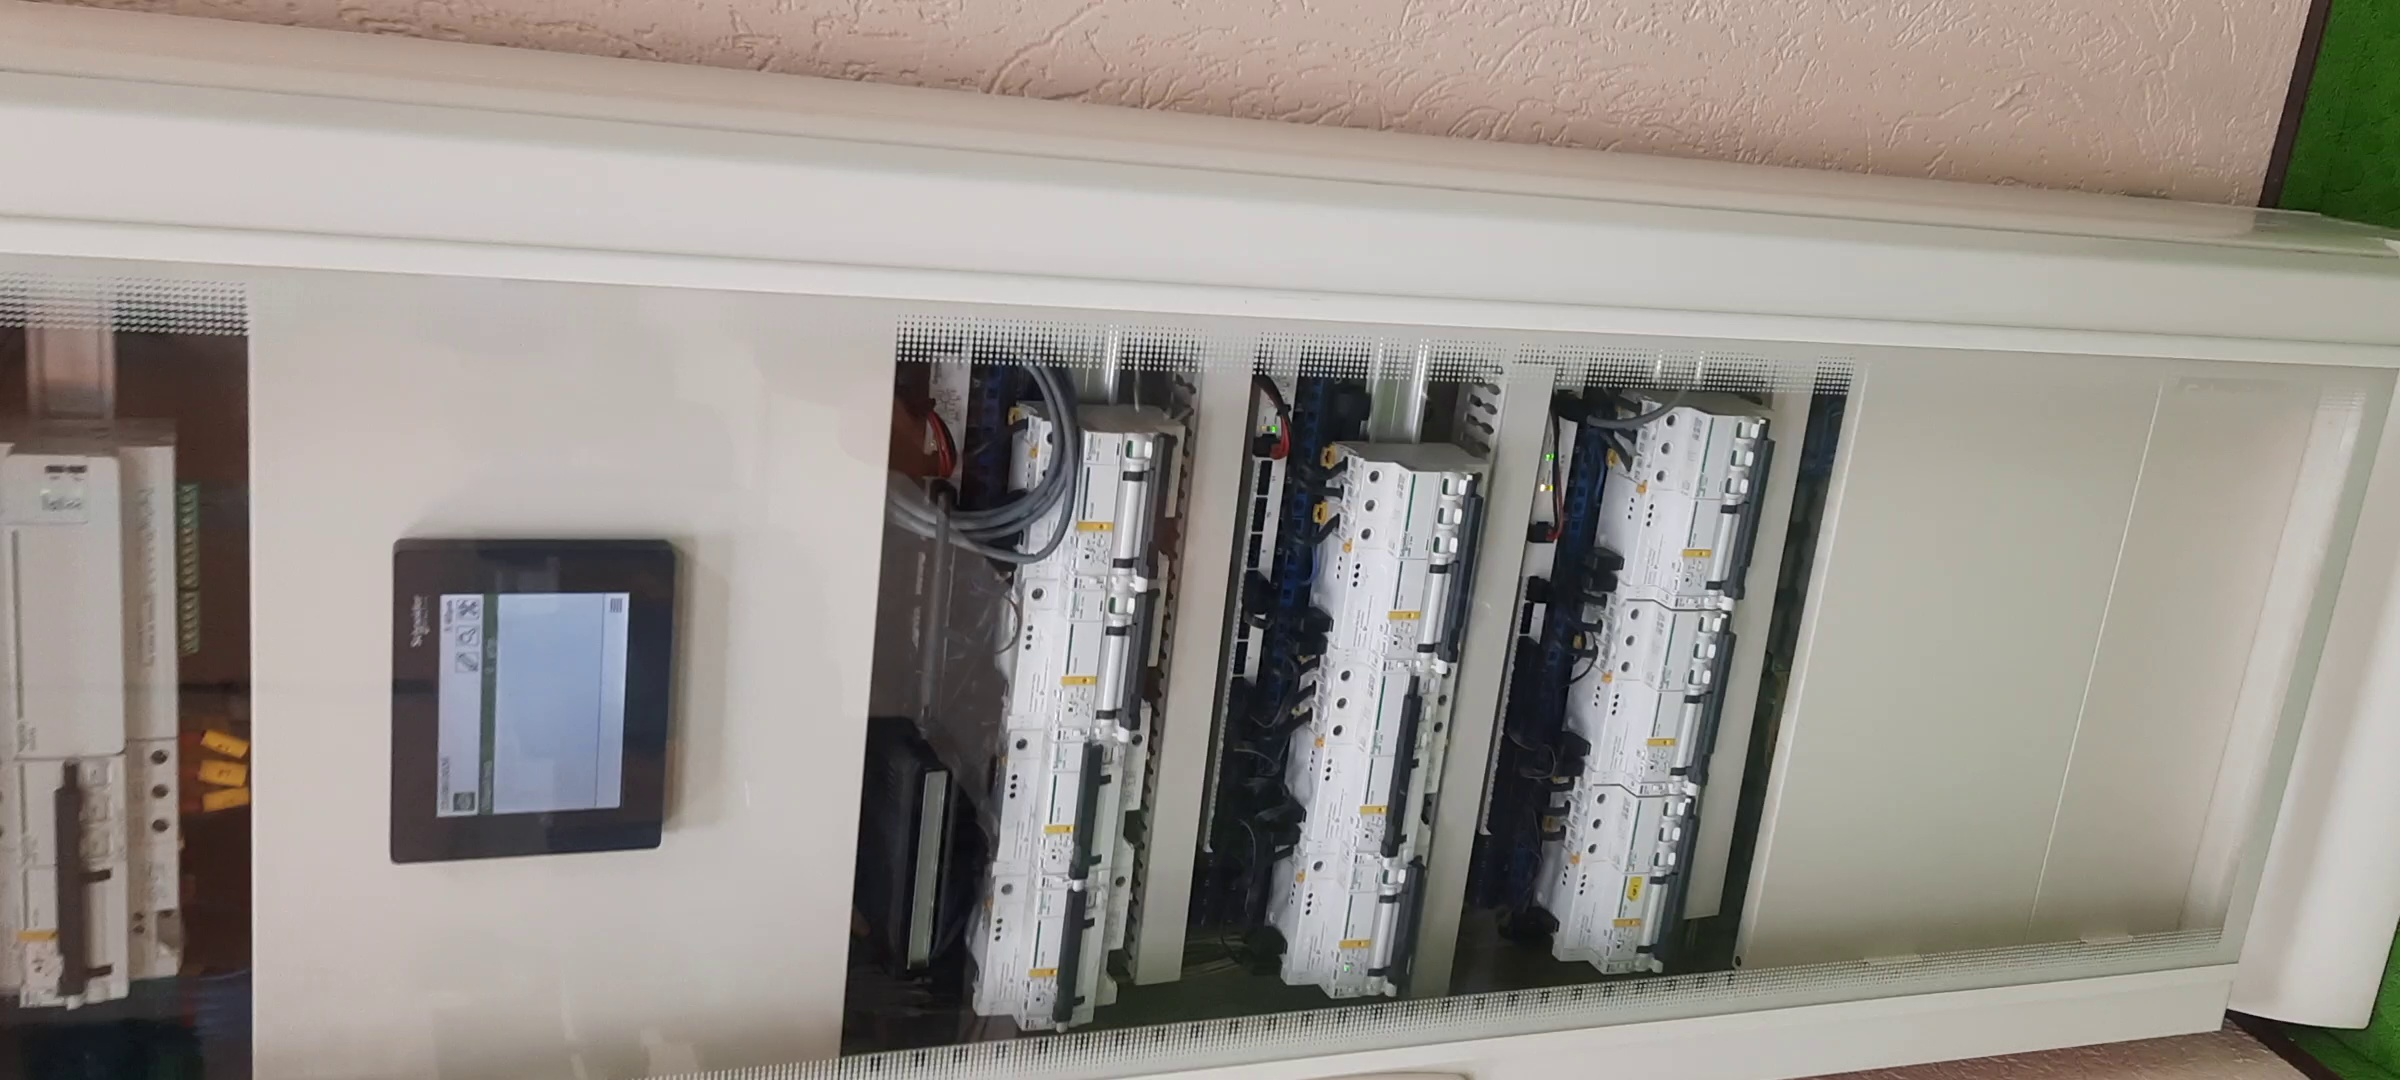smart_stand: (2, 63, 2391, 1080)
